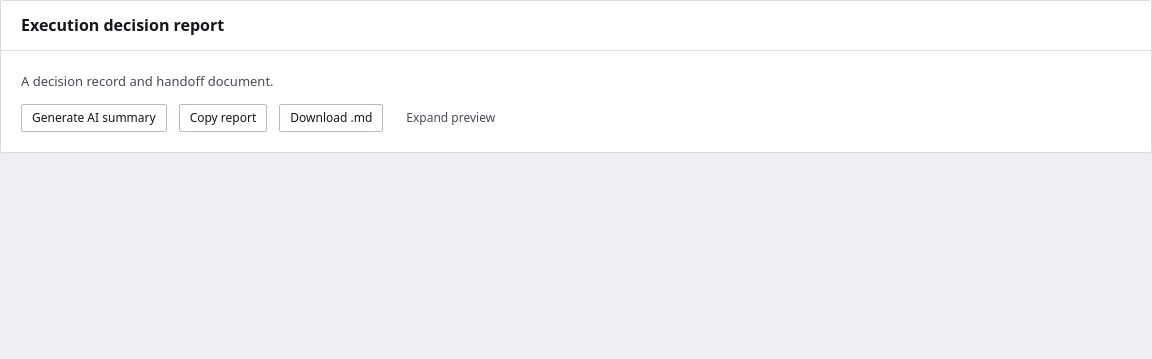
Test case: ActionReportWorkspace › replaces the report only with the server-locked AI result
Click the button "Generate AI summary" at (94, 118), box [21,104,167,132]
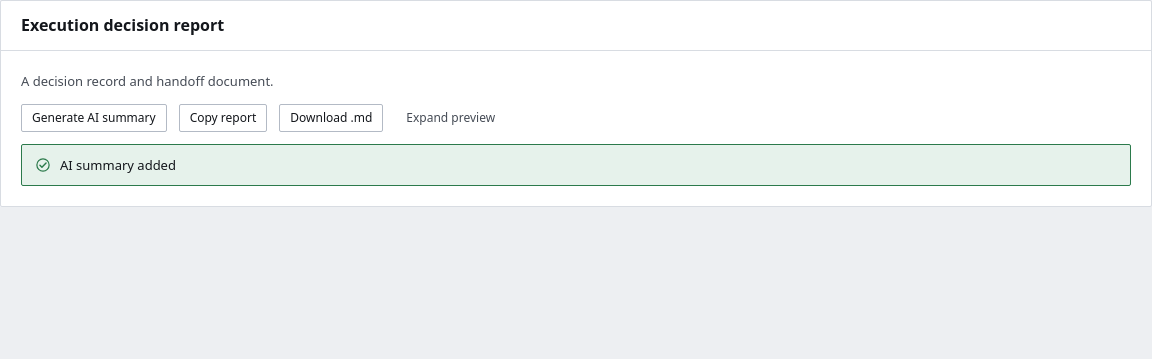
Check: the text "AI summary added" is shown, box [60,155,176,175]
Click the button "Expand preview" at (451, 118), box [395,104,506,132]
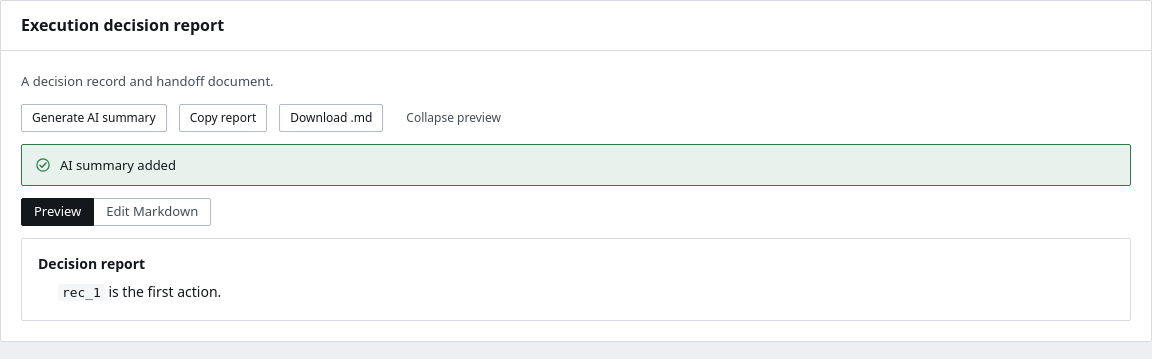
Check: the text "rec_1" is shown, box [58,284,105,301]
